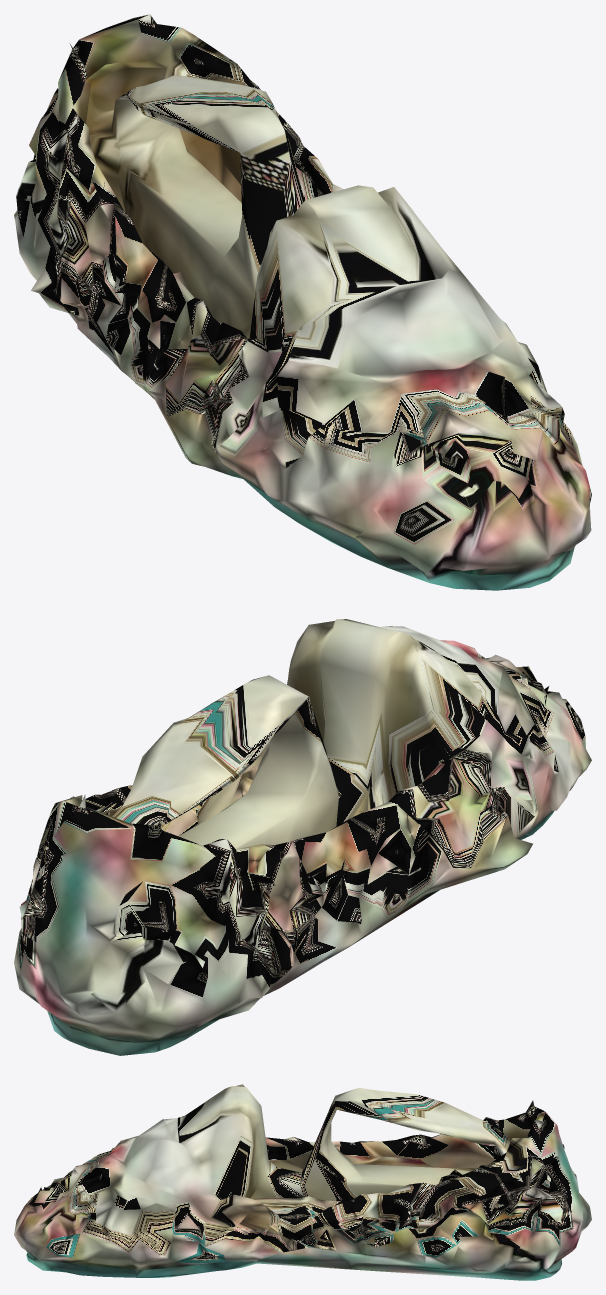
File: gso_rose_garden_tieks_leather_ballet_flats_with_floral_rosettes.glb
3 renders of one model, top to bottom at view 1: azimuth 30°, elevation 25°; view 2: azimuth 150°, elevation 25°; view 3: azimuth 270°, elevation 25°, orthographic. The views are drawn at different scales.
Parts seen in each view (by area): view 1: z-up-to-y-up; view 2: z-up-to-y-up; view 3: z-up-to-y-up.
Part boxes in pixels (<box>): z-up-to-y-up: <box>14,14,591,590</box>; z-up-to-y-up: <box>14,619,591,1055</box>; z-up-to-y-up: <box>14,1084,591,1280</box>.
Size of the model in its own units: 0.0934 by 0.0777 by 0.2466.
Materials: 1 (1 with a texture image).
